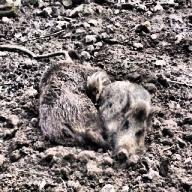boar: (38, 49, 110, 149), (86, 70, 152, 161)
